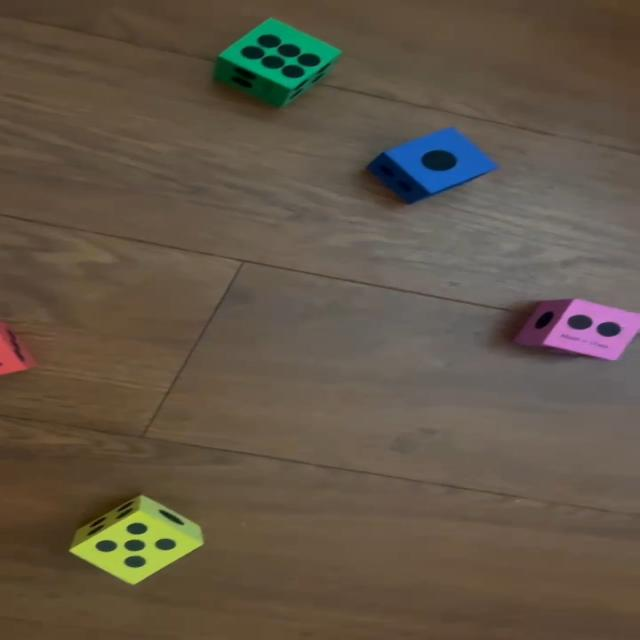blue_block: (372, 129, 497, 201)
red_block: (0, 323, 33, 375)
